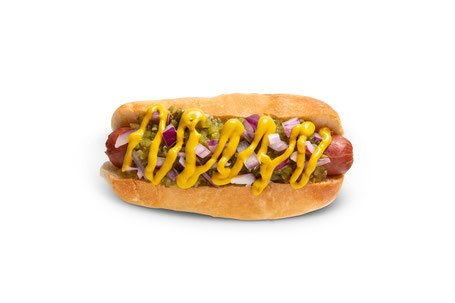burger: (101, 92, 355, 220)
